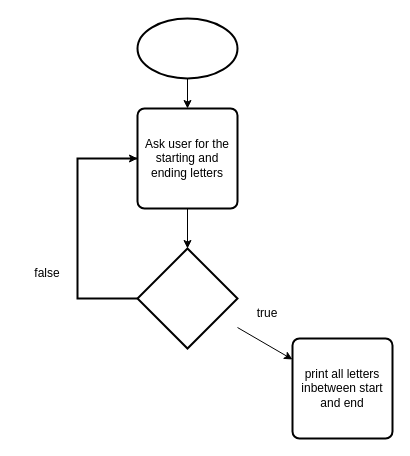
Some shapes in this 410 by 456 pixel diagram are drawn without their labels. The centre of each missing label's shape, as x and y in pixels:
"Start" belongs at (x=187, y=48).
"start and end are both letters and start comes before end" belongs at (x=187, y=298).
